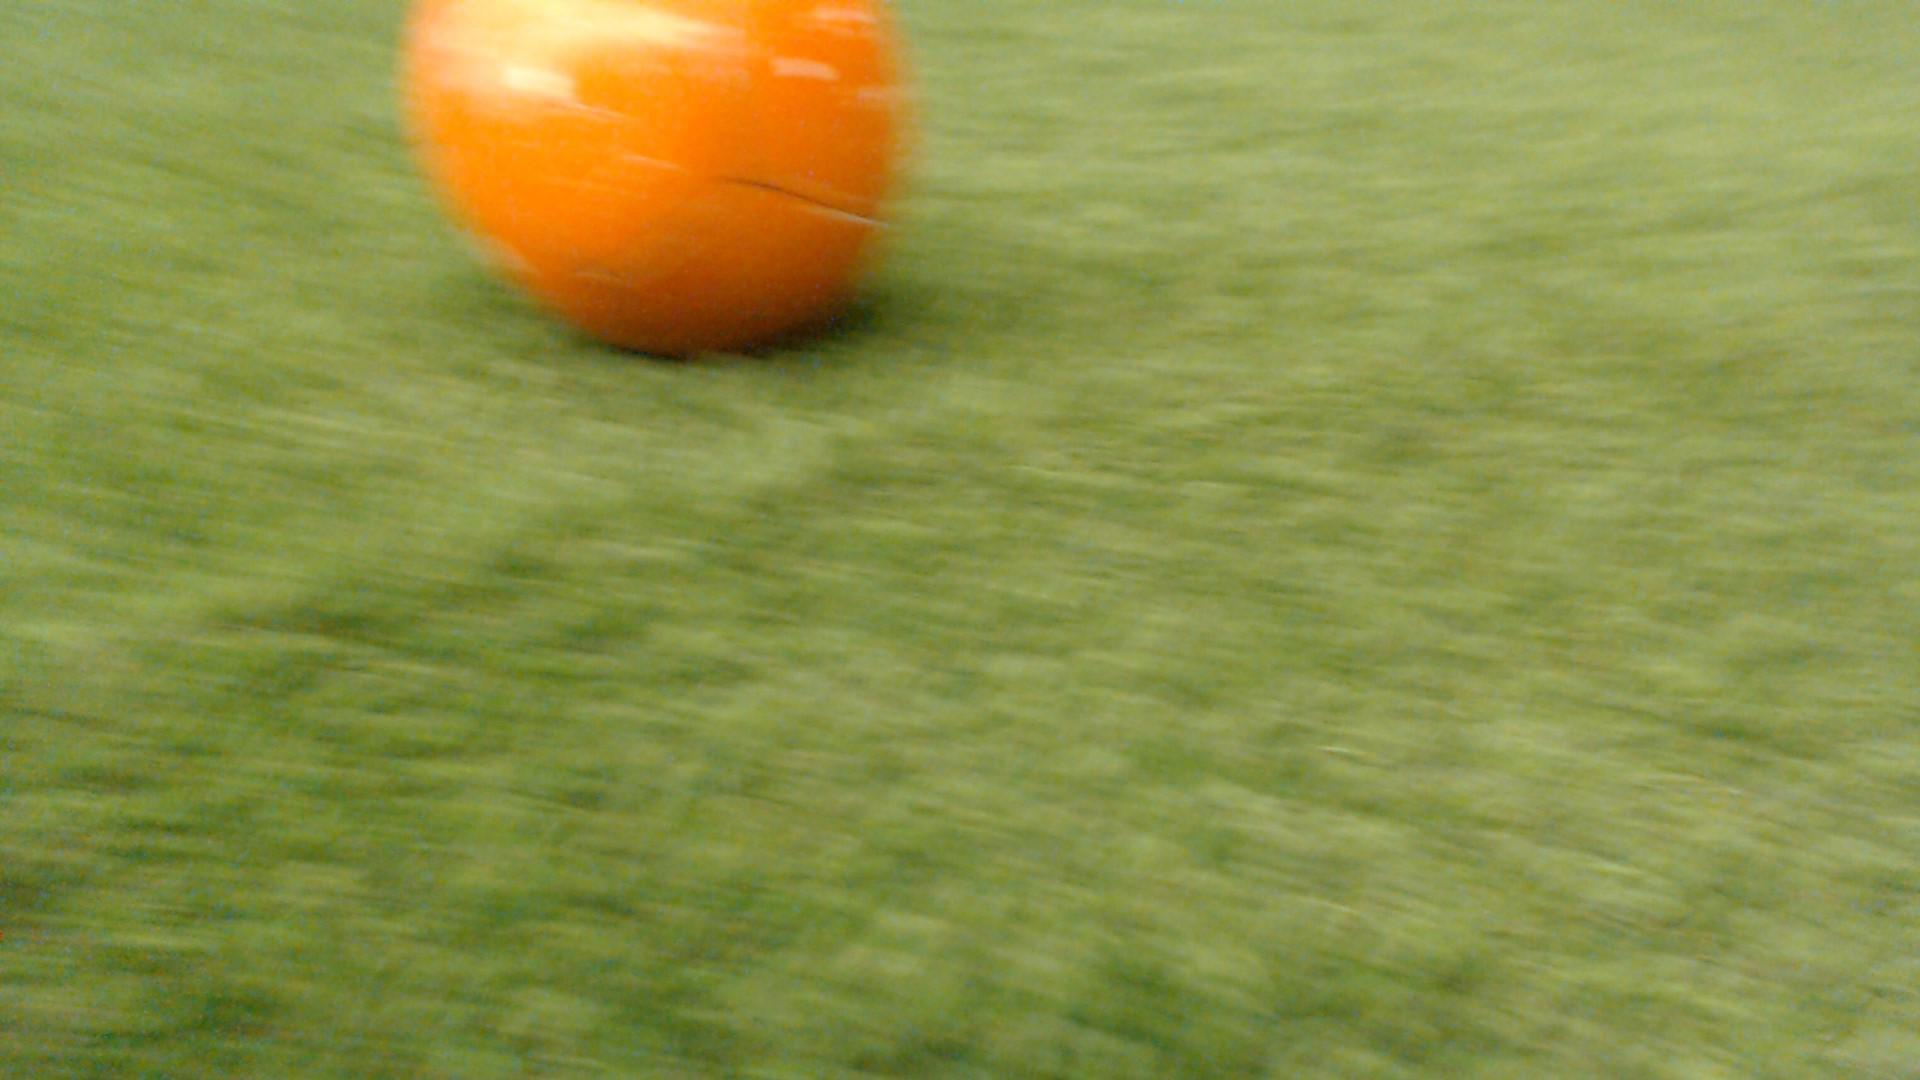bola: (385, 0, 923, 373)
